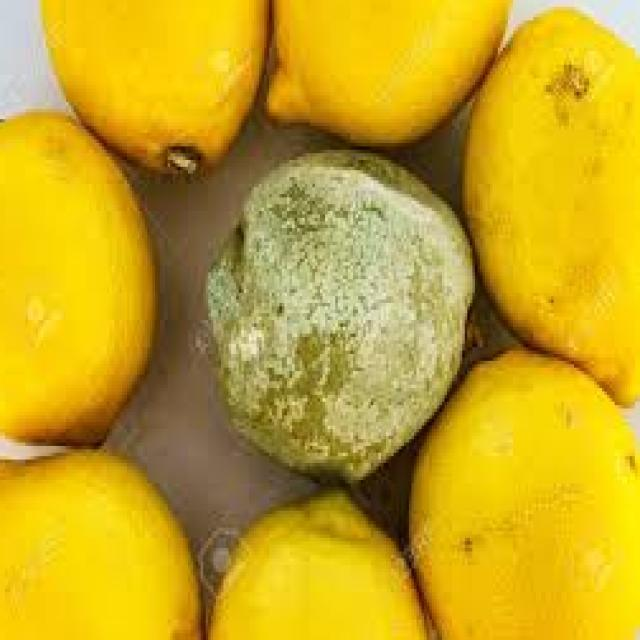Ripe: (412, 342, 639, 640), (41, 0, 272, 176)
Rotten: (192, 144, 476, 480)
